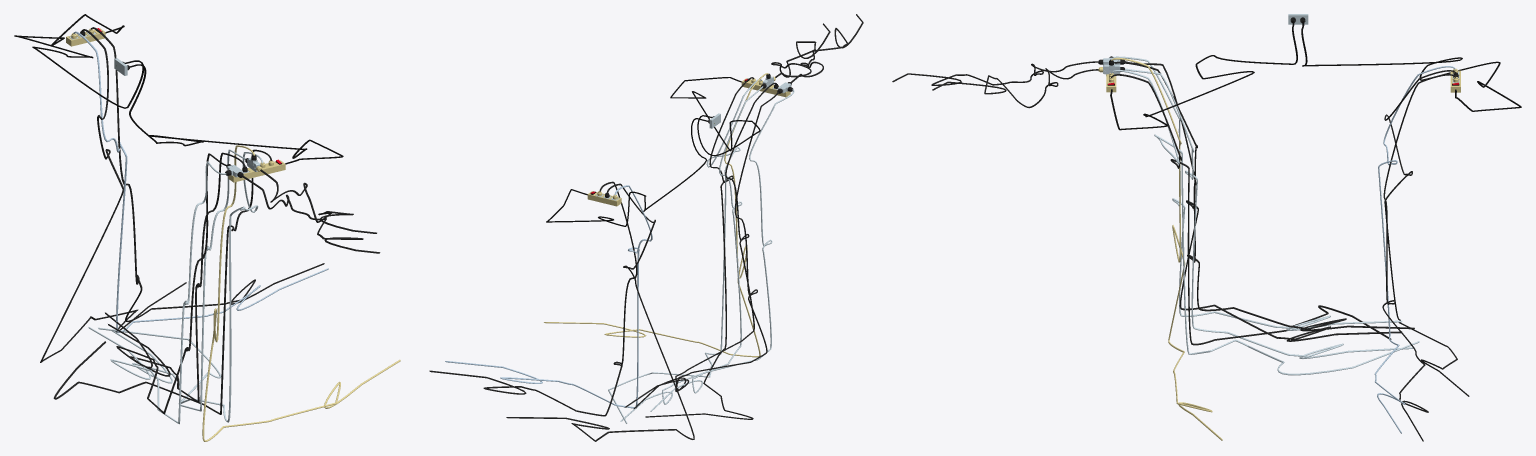
File: OctopusWiringHazard.fbx
The picture shows the model from 3 angles, left to right: view 1: azimuth 30°, elevation 25°; view 2: azimuth 150°, elevation 25°; view 3: azimuth 270°, elevation 25°; orthographic projection. The views are drawn at different scales.
Parts seen in each view (by area): view 1: plugs2, Plug1, Extension2, Extension1; view 2: plugs2, Plug1, Extension1, Extension2; view 3: plugs2, Plug1, Extension1, Extension2.
Boxes of the visible parts, bbox=[...] form: plugs2: bbox=[53, 145, 400, 441]; Plug1: bbox=[40, 27, 328, 362]; Extension2: bbox=[127, 64, 343, 182]; Extension1: bbox=[14, 14, 144, 108]; plugs2: bbox=[544, 14, 863, 423]; Plug1: bbox=[429, 181, 694, 441]; Extension1: bbox=[546, 118, 714, 226]; Extension2: bbox=[670, 77, 790, 156]; plugs2: bbox=[892, 56, 1419, 440]; Plug1: bbox=[1374, 66, 1469, 441]; Extension1: bbox=[1300, 17, 1521, 111]; Extension2: bbox=[1106, 17, 1297, 130].
Size of the model in its own units: 0.5692 by 0.564 by 0.9992.
